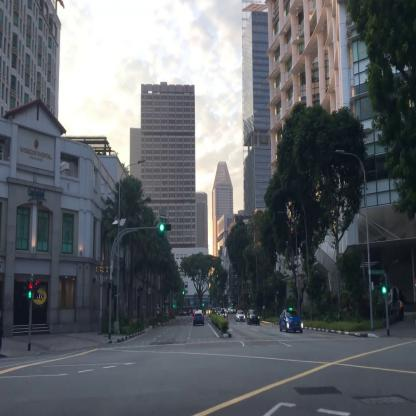green_traffic_light: (160, 224, 171, 230)
